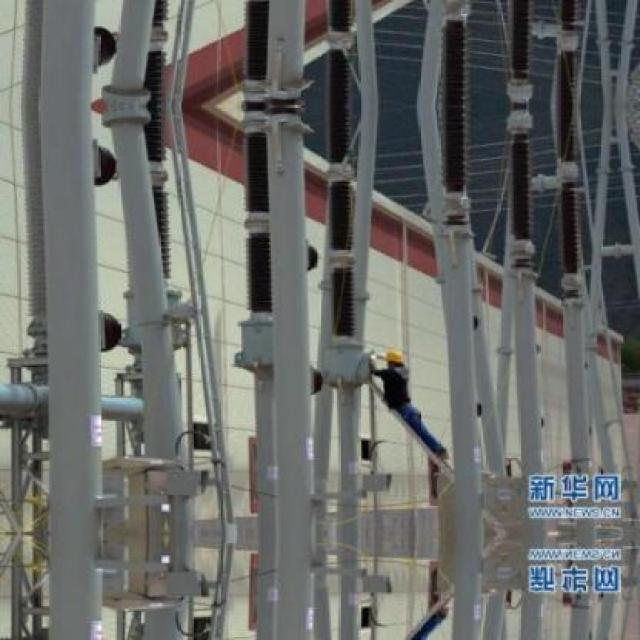helmet: (382, 346, 406, 374)
